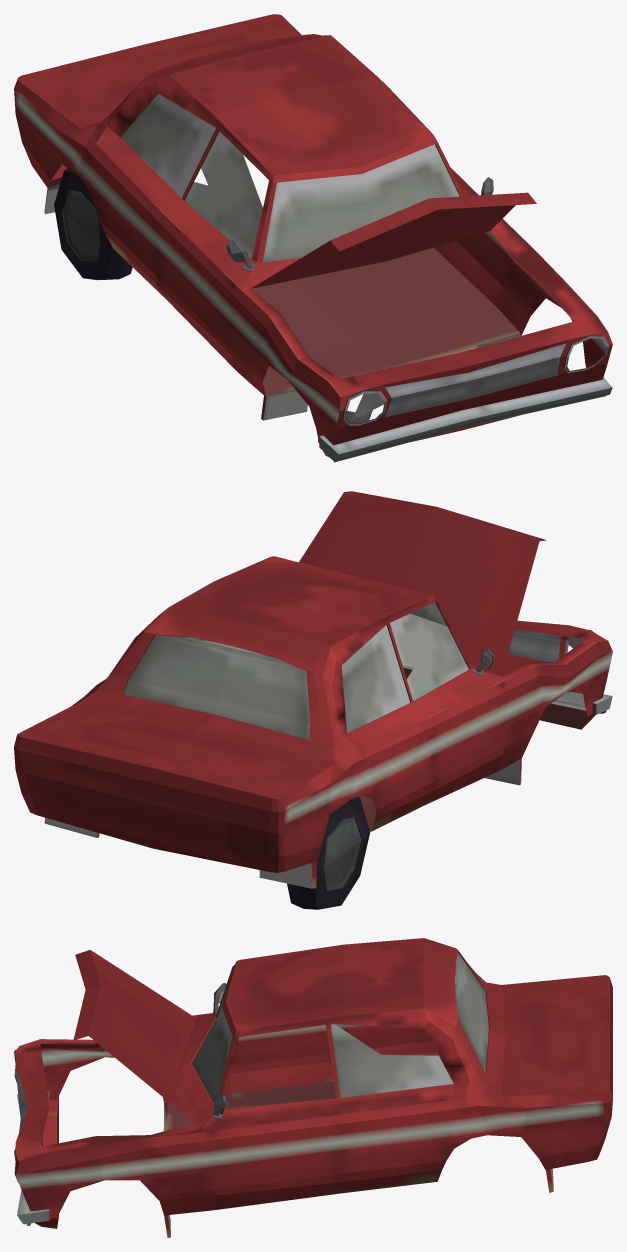
File: Car6.fbx
3 renders of one model, top to bottom at view 1: azimuth 30°, elevation 25°; view 2: azimuth 150°, elevation 25°; view 3: azimuth 270°, elevation 25°, orthographic. The views are drawn at different scales.
Parts seen in each view (by area): view 1: Cube.006; view 2: Cube.006; view 3: Cube.006.
Part boxes in pixels (x1,y1,x2,y2): Cube.006: (14, 14, 612, 462); Cube.006: (14, 491, 612, 909); Cube.006: (14, 938, 612, 1237).
Size of the model in its own units: 206 by 165 by 425.
Materials: 1 (1 with a texture image).
